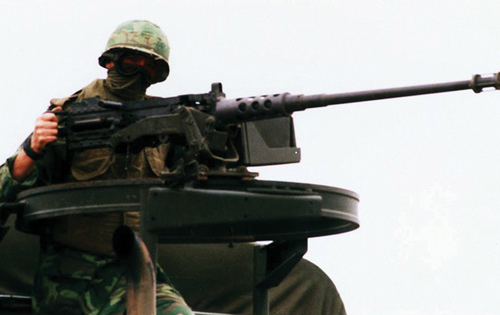rifle: (175, 58, 499, 180)
rifle in hand: (25, 80, 486, 212)
